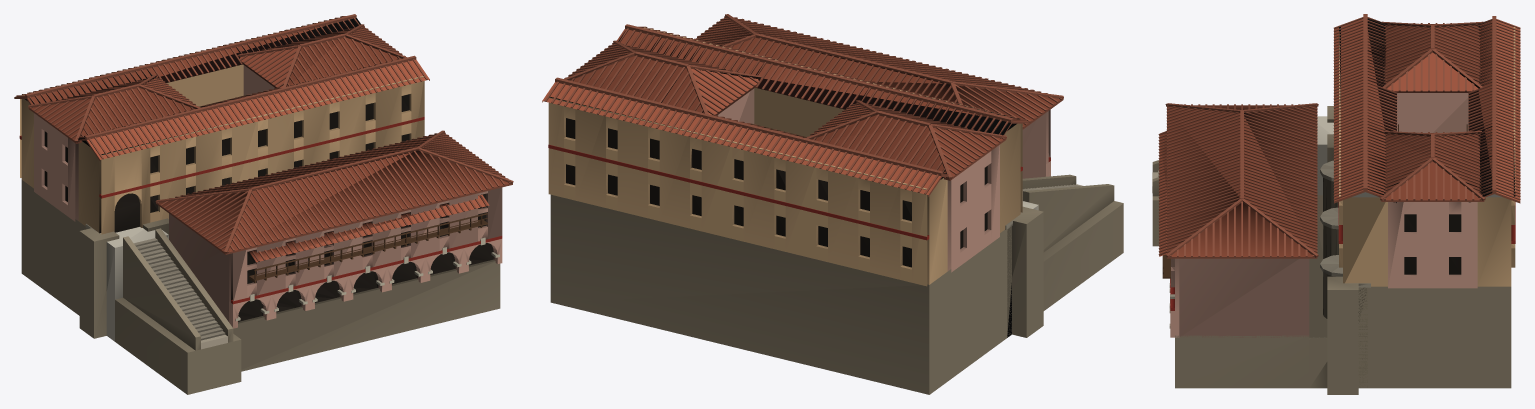
The model's file is rome_pal_block_a.glb.
The picture shows the model from 3 angles, left to right: view 1: azimuth 30°, elevation 25°; view 2: azimuth 150°, elevation 25°; view 3: azimuth 270°, elevation 25°; orthographic projection. The views are drawn at different scales.
Visible parts, largest first — view 1: rome_pal_block_a; view 2: rome_pal_block_a; view 3: rome_pal_block_a.
Part boxes in pixels (x1=…): rome_pal_block_a: x1=14, y1=14, x2=513, y2=394; rome_pal_block_a: x1=542, y1=14, x2=1123, y2=394; rome_pal_block_a: x1=1152, y1=14, x2=1520, y2=394.
Bounding box in the file's own units: 38.8 × 21.44 × 32.84.
